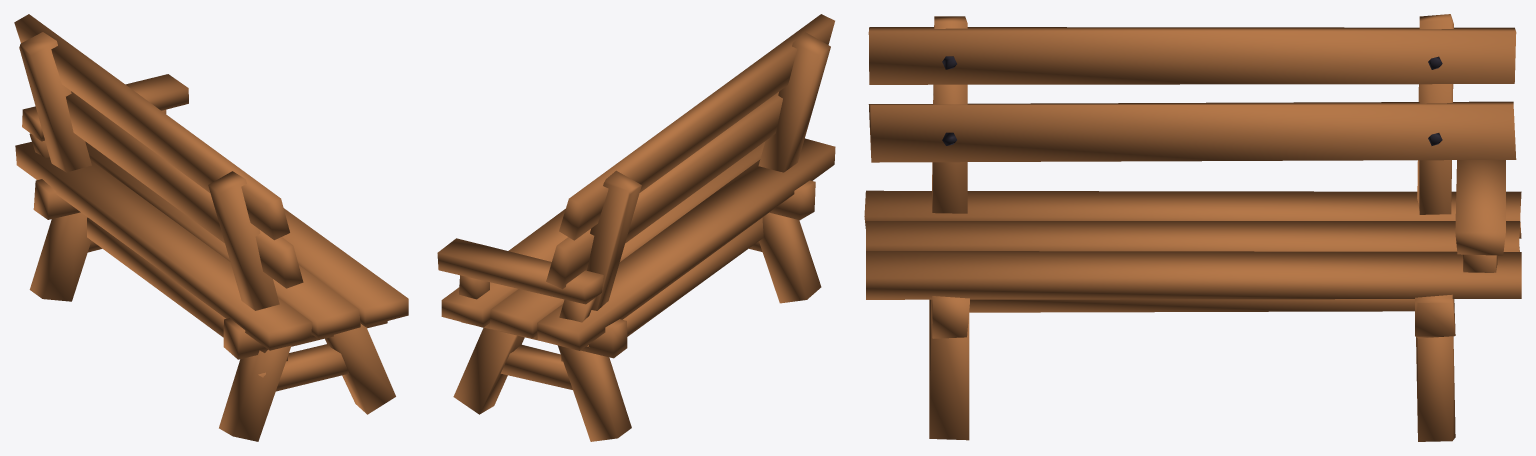
File: prop.bench.lod2.glb
3 renders of one model, left to right at view 1: azimuth 30°, elevation 25°; view 2: azimuth 150°, elevation 25°; view 3: azimuth 270°, elevation 25°, orthographic. The views are drawn at different scales.
Size of the model in its own units: 0.7507 by 1.09 by 1.89.
